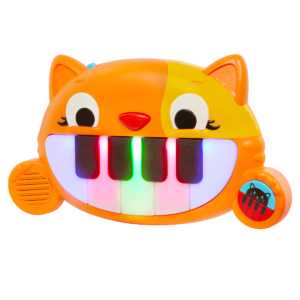toy: (8, 42, 293, 231)
